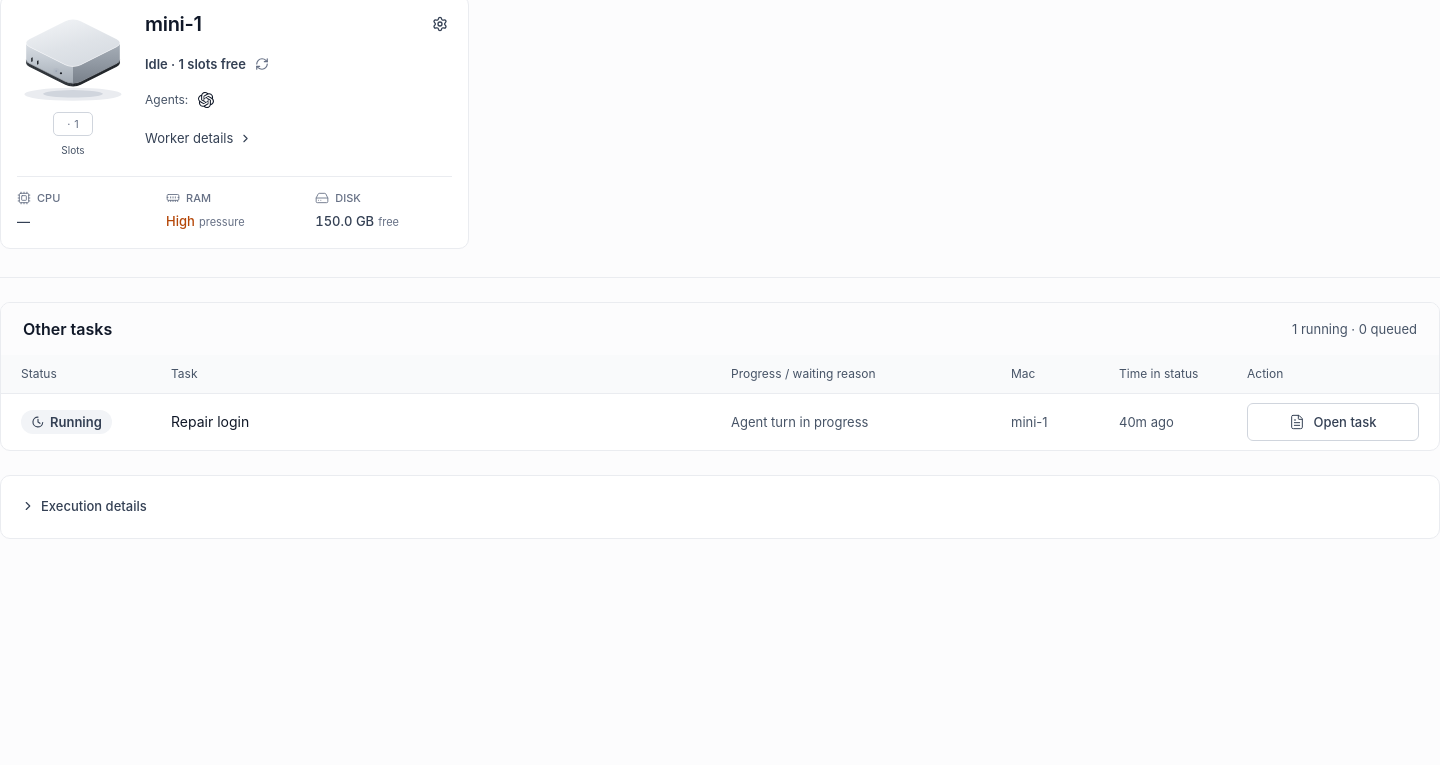
Overview › marks a worker whose agent facts have expired as advertising nothing usable
The image size is (1440, 765).
Click the button "Execution details": (94, 506) left=21, top=496, right=1419, bottom=516
(page scrolled)
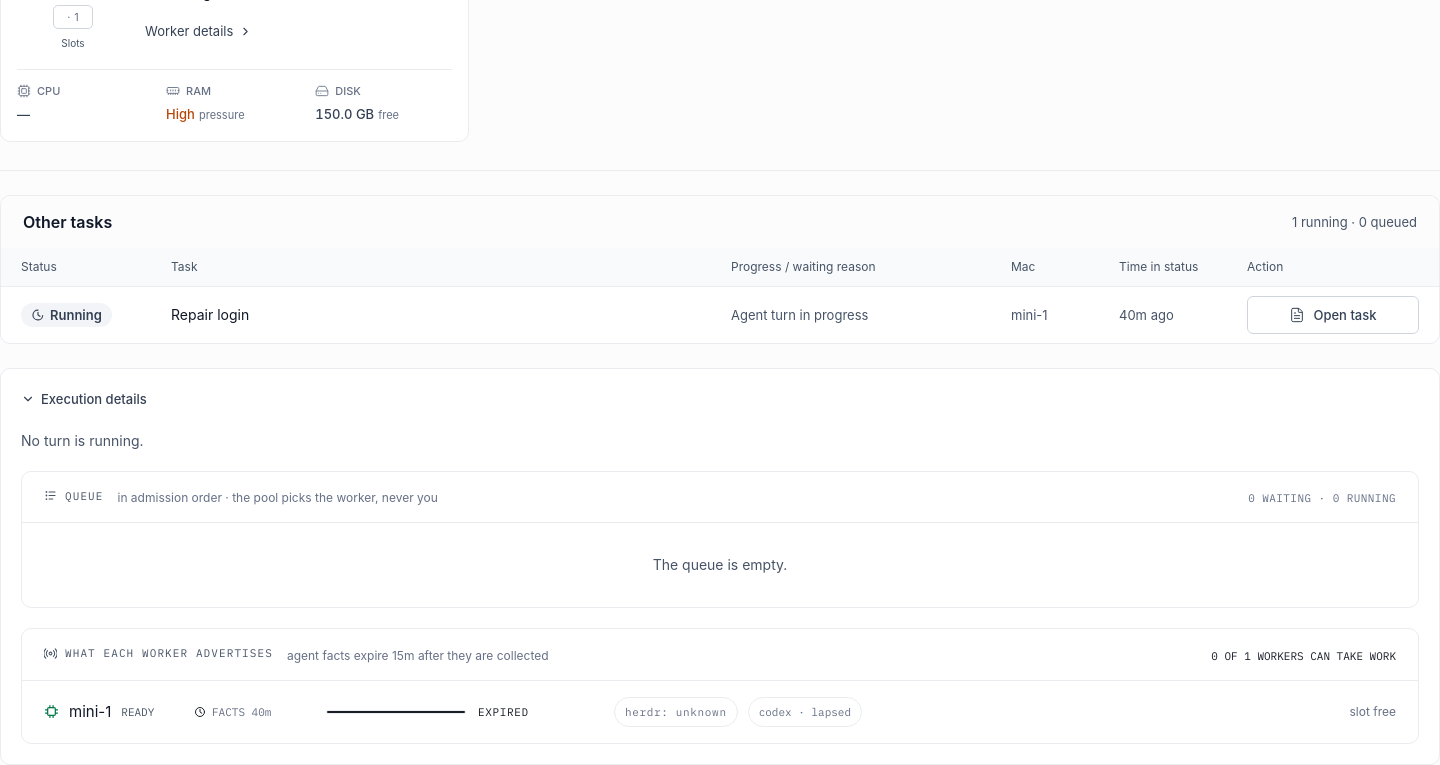
Expected: the text "EXPIRED" is shown, left=478, top=702, right=529, bottom=722
Expected: the text "codex · lapsed" is shown, left=748, top=696, right=862, bottom=726
Expected: the text "0 of 1 workers can take work" is shown, left=1211, top=646, right=1396, bottom=666
